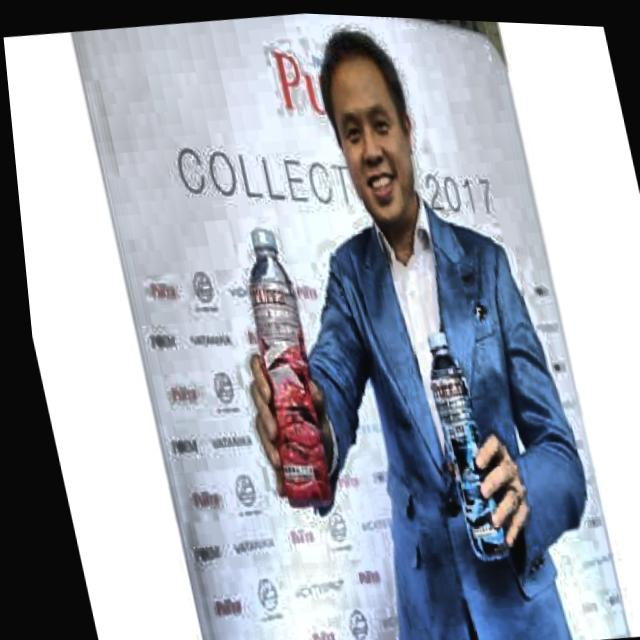Bottles: (201, 215, 362, 530), (385, 309, 531, 569)
